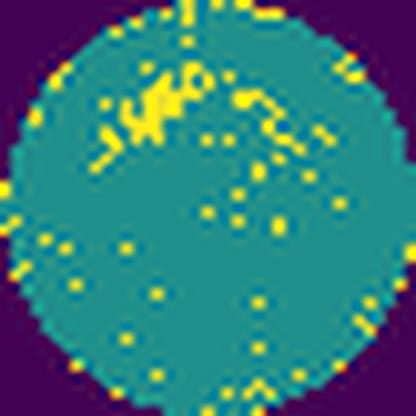Loc: (122, 59, 214, 149)
